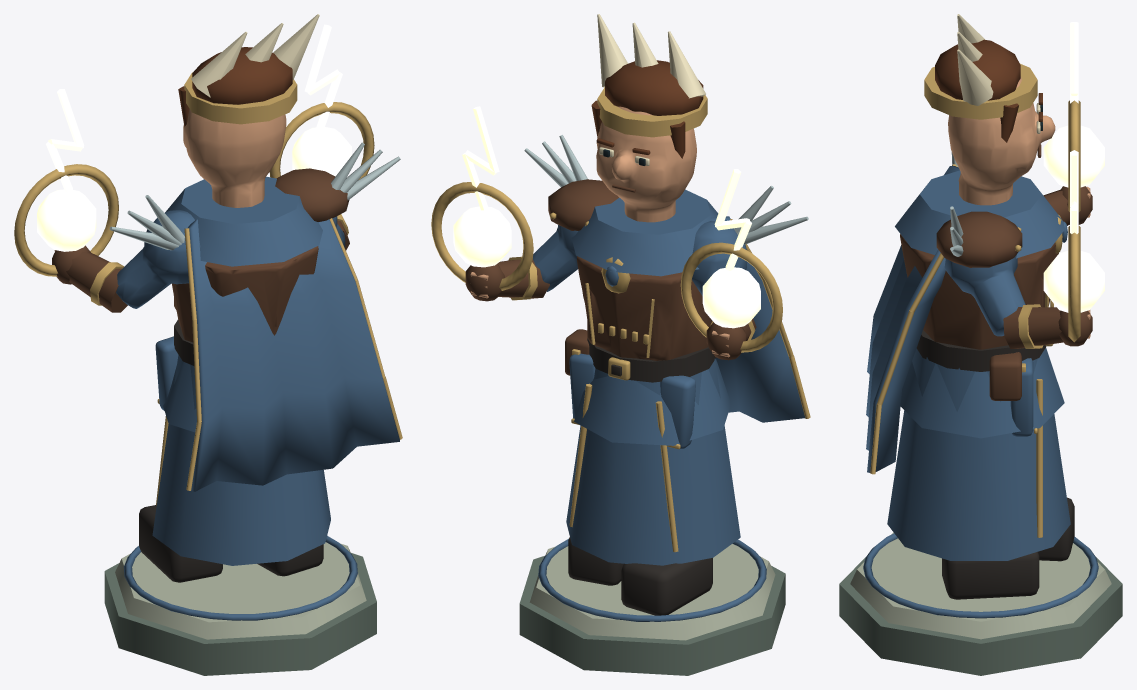
The model's file is advanced_tempestherald.glb.
3 views of the same model, side by side, from view 1: azimuth 30°, elevation 25°; view 2: azimuth 150°, elevation 25°; view 3: azimuth 270°, elevation 25° (orthographic). The views are drawn at different scales.
Parts seen in each view (by area): view 1: Rank inlay.001, Beveled limestone top.001, Octagonal footing.001, Boot cuff.002, Boot shaft.002, Storm orb.002, Unified face and neck.001, Leather boot toe.002, Auburn eyebrow.002, Storm mantle arc.006, Eye white.002; view 2: Rank inlay.001, Boot shaft.002, Boot cuff.002, Octagonal footing.001, Beveled limestone top.001, Storm orb.002, Leather boot toe.002, Unified face and neck.001, Auburn eyebrow.002, Eye white.002, Storm mantle arc.006; view 3: Rank inlay.001, Boot shaft.002, Beveled limestone top.001, Octagonal footing.001, Boot cuff.002, Unified face and neck.001, Leather boot toe.002, Storm orb.002, Auburn eyebrow.002, Eye white.002, Storm mantle arc.006.
Part boxes in pixels (x1,y1,x2,y2): Rank inlay.001: (116, 176, 399, 620); Beveled limestone top.001: (115, 542, 366, 639); Octagonal footing.001: (104, 553, 376, 675); Boot cuff.002: (14, 72, 402, 505); Boot shaft.002: (52, 168, 349, 342); Storm orb.002: (37, 24, 351, 251); Unified face and neck.001: (54, 109, 286, 251); Leather boot toe.002: (139, 319, 323, 582); Auburn eyebrow.002: (178, 47, 292, 127); Storm mantle arc.006: (109, 142, 400, 250); Eye white.002: (191, 14, 319, 97); Rank inlay.001: (533, 189, 805, 621); Boot shaft.002: (465, 179, 756, 375); Boot cuff.002: (431, 87, 810, 552); Octagonal footing.001: (519, 556, 785, 675); Beveled limestone top.001: (529, 544, 775, 640); Storm orb.002: (453, 106, 760, 328); Leather boot toe.002: (568, 338, 716, 615); Unified face and neck.001: (470, 106, 729, 357); Auburn eyebrow.002: (591, 60, 703, 158); Eye white.002: (597, 14, 705, 165); Storm mantle arc.006: (524, 135, 808, 244); Rank inlay.001: (863, 166, 1098, 618); Boot shaft.002: (900, 144, 1092, 400); Beveled limestone top.001: (850, 532, 1111, 639); Octagonal footing.001: (839, 557, 1122, 675); Boot cuff.002: (870, 63, 1080, 537); Unified face and neck.001: (948, 76, 1090, 338); Leather boot toe.002: (916, 330, 1074, 599); Storm orb.002: (1043, 22, 1104, 312); Auburn eyebrow.002: (935, 39, 1042, 142); Eye white.002: (957, 14, 1040, 133); Storm mantle arc.006: (950, 152, 963, 256).
Bounding box in the file's own units: 1.3 × 2.05 × 0.88.
